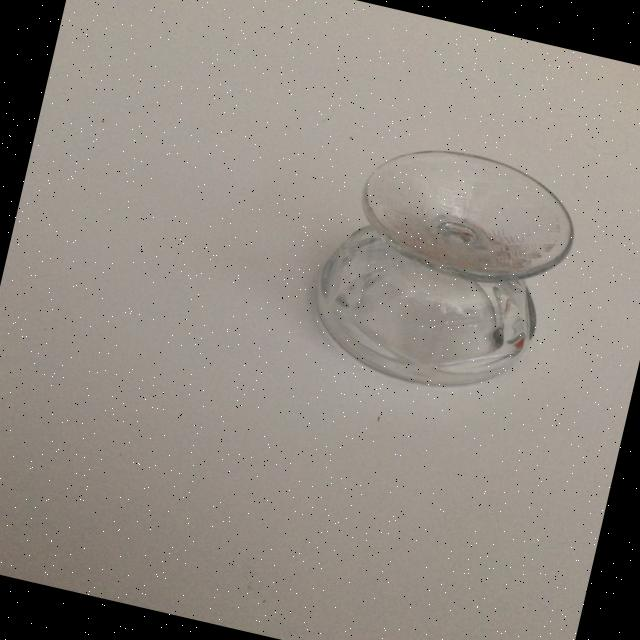glass: (299, 125, 587, 411)
